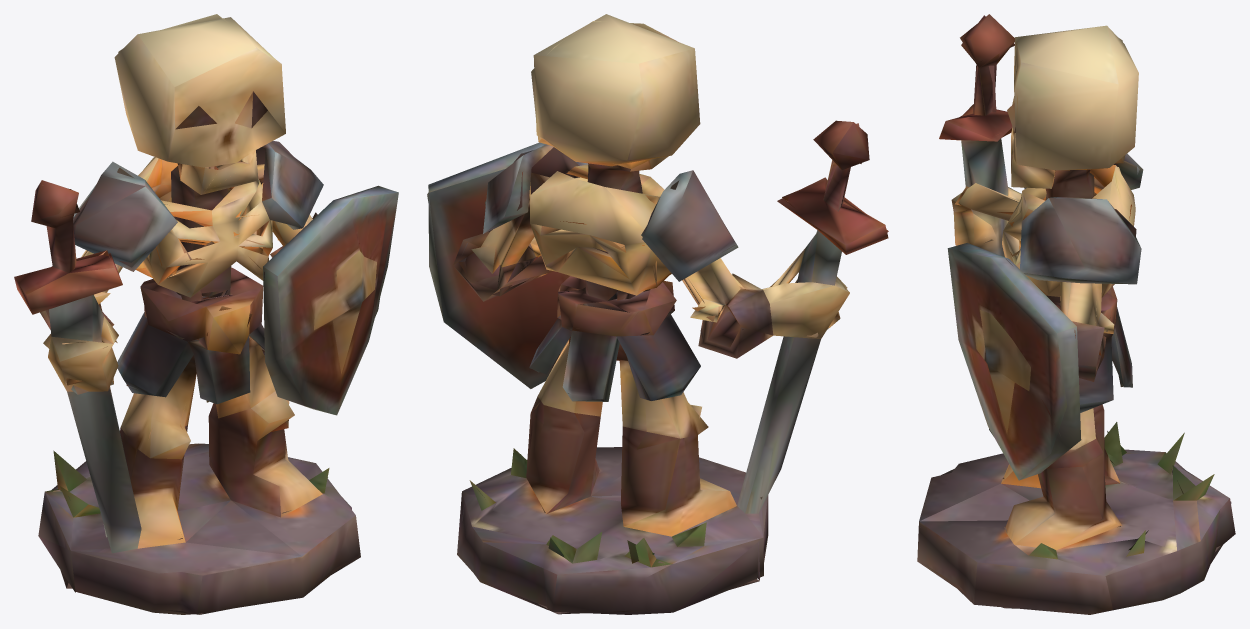
Rendered from x-statue-skeleton-knight.glb.
3 views of the same model, side by side, from view 1: azimuth 30°, elevation 25°; view 2: azimuth 150°, elevation 25°; view 3: azimuth 270°, elevation 25° (orthographic).
Parts seen in each view (by area): view 1: geometry_0; view 2: geometry_0; view 3: geometry_0.
Part boxes in pixels (bbox=[...]): geometry_0: bbox=[14, 14, 398, 614]; geometry_0: bbox=[427, 14, 888, 614]; geometry_0: bbox=[917, 14, 1235, 614].
Bounding box in the file's own units: 0.8266 × 1 × 0.5558.
Materials: 1 (1 with a texture image).
